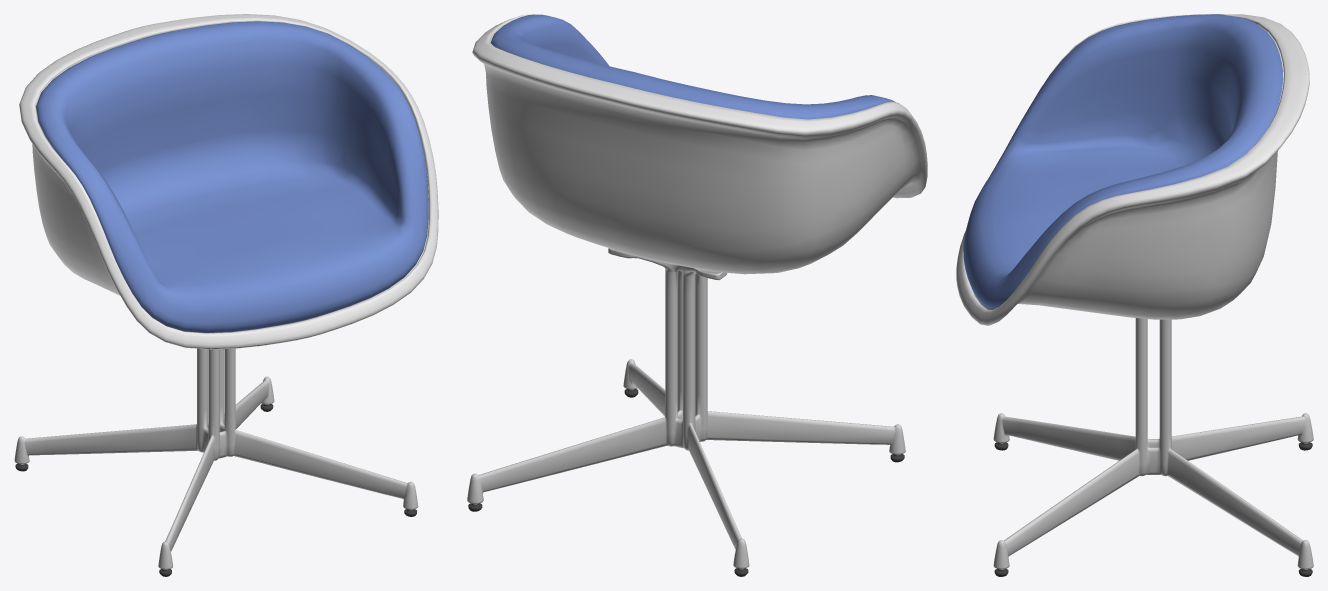
File: sweethome3d-scopia-modern-armchair-88.glb
The picture shows the model from 3 angles, left to right: view 1: azimuth 30°, elevation 25°; view 2: azimuth 150°, elevation 25°; view 3: azimuth 270°, elevation 25°; orthographic projection. The views are drawn at different scales.
Visible parts, largest first — view 1: seat_Plane, legs_Cylinder; view 2: seat_Plane, legs_Cylinder; view 3: seat_Plane, legs_Cylinder.
Boxes of the visible parts, <box> form: seat_Plane: <box>19,14,438,349</box>; legs_Cylinder: <box>14,348,418,576</box>; seat_Plane: <box>472,14,927,274</box>; legs_Cylinder: <box>467,248,905,576</box>; seat_Plane: <box>956,14,1309,325</box>; legs_Cylinder: <box>993,318,1313,576</box>.
Bounding box in the file's own units: 80.49 × 91.95 × 67.52.
